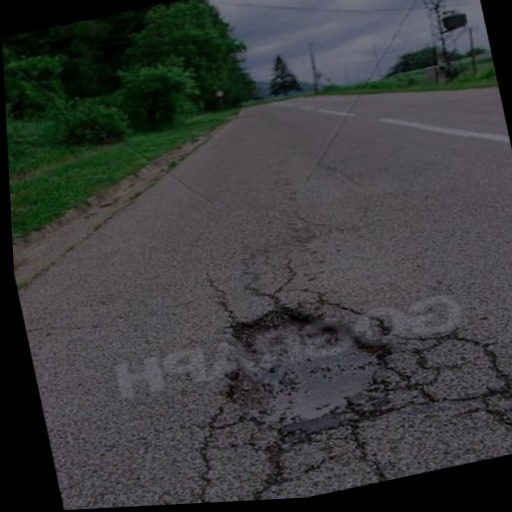pothole: (202, 280, 411, 452)
